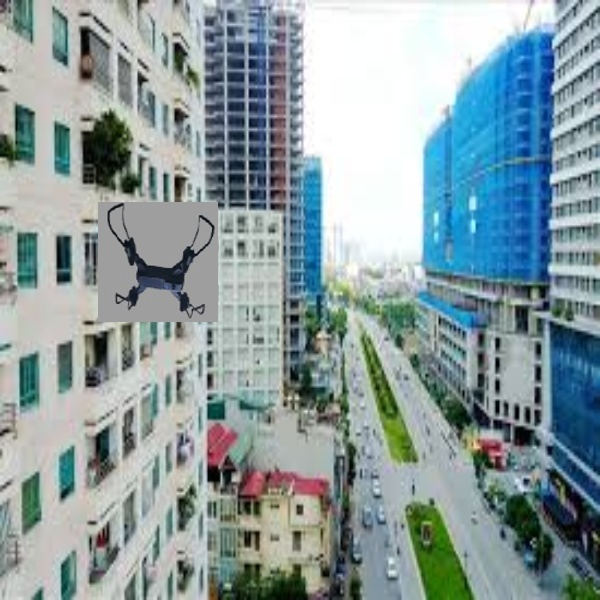drone: (98, 199, 219, 322)
